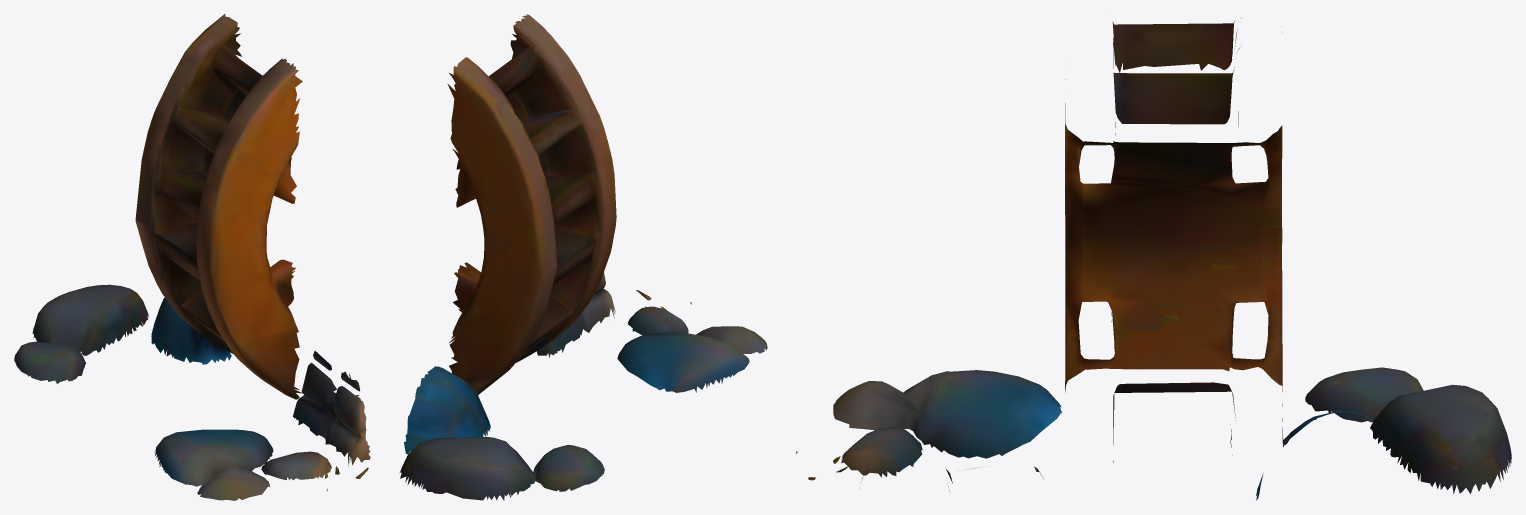
Rendered from river_boulders_github.glb.
3 views of the same model, side by side, from view 1: azimuth 30°, elevation 25°; view 2: azimuth 150°, elevation 25°; view 3: azimuth 270°, elevation 25° (orthographic). The views are drawn at different scales.
Parts seen in each view (by area): view 1: river_boulders_github; view 2: river_boulders_github; view 3: river_boulders_github.
Part boxes in pixels (left/top/right/bottom): river_boulders_github: left=14, top=14, right=370, bottom=500; river_boulders_github: left=399, top=14, right=767, bottom=500; river_boulders_github: left=796, top=17, right=1511, bottom=500.
Bounding box in the file's own units: 0.1302 × 0.2447 × 0.3192.
Materials: 1 (1 with a texture image).
